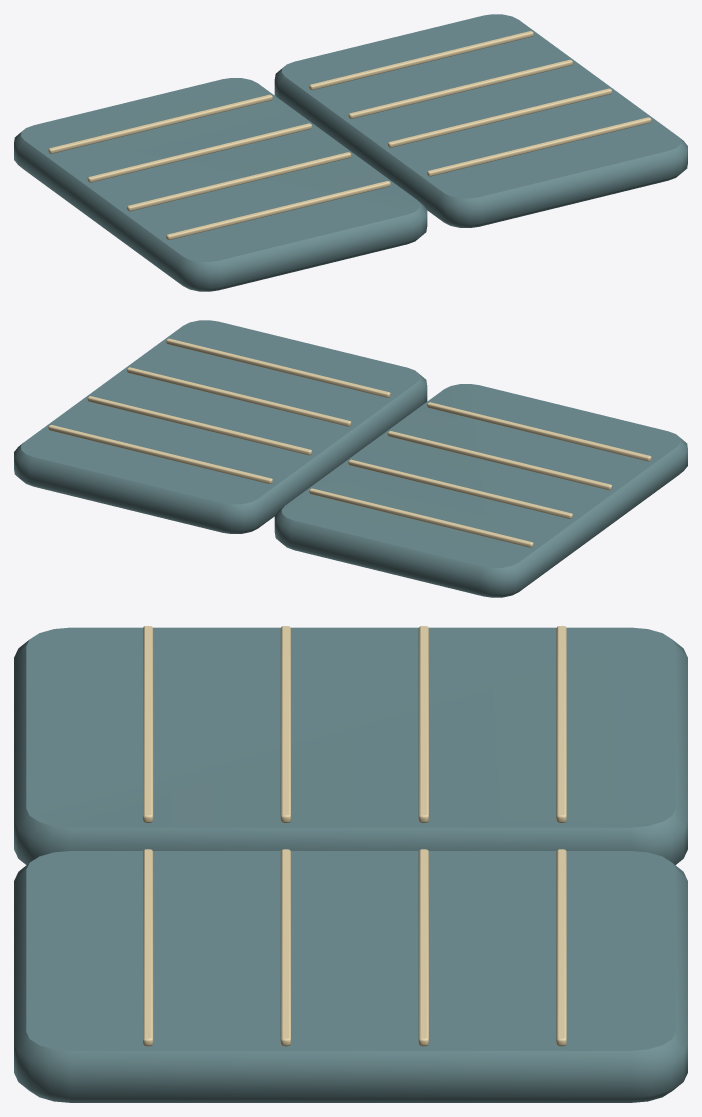
The model's file is luxury_fuel_3.glb.
3 views of the same model, one above another, from view 1: azimuth 30°, elevation 25°; view 2: azimuth 150°, elevation 25°; view 3: azimuth 270°, elevation 25° (orthographic). The views are drawn at different scales.
Visible parts, largest first — view 1: LuxuryFuel3; view 2: LuxuryFuel3; view 3: LuxuryFuel3.
Boxes of the visible parts, bbox=[...] form: LuxuryFuel3: bbox=[14, 14, 687, 291]; LuxuryFuel3: bbox=[14, 320, 687, 597]; LuxuryFuel3: bbox=[14, 626, 687, 1102].
Size of the model in its own units: 2.68 by 0.17 by 1.76.
